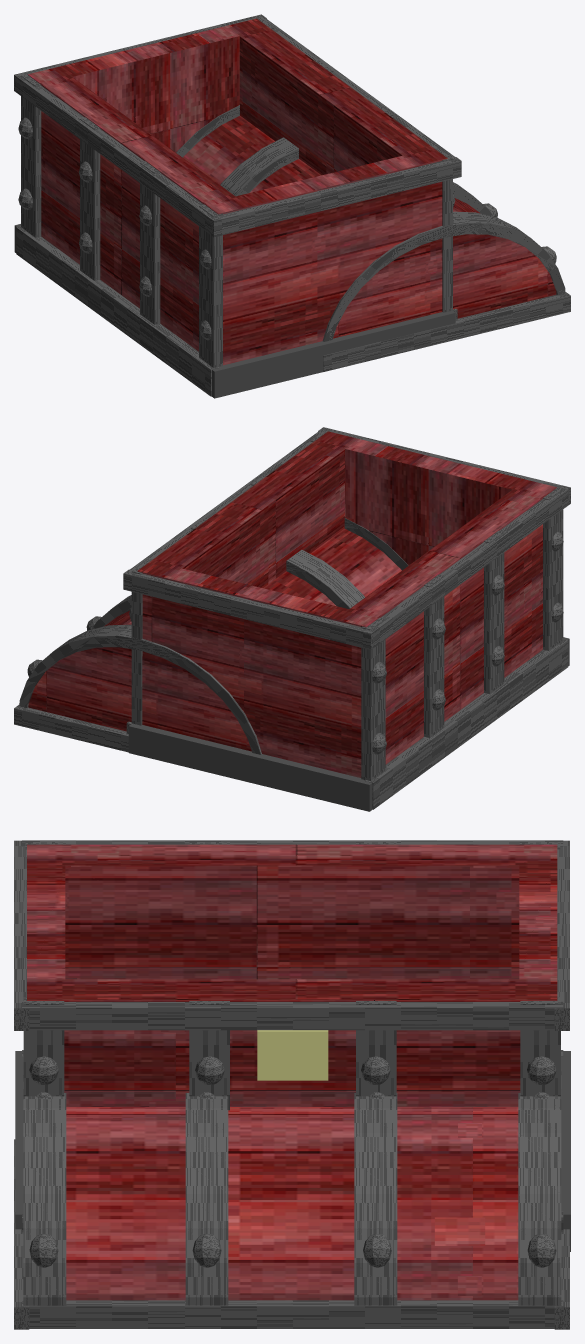
File: small-chest.glb
The picture shows the model from 3 angles, top to bottom: view 1: azimuth 30°, elevation 25°; view 2: azimuth 150°, elevation 25°; view 3: azimuth 270°, elevation 25°; orthographic projection. The views are drawn at different scales.
Visible parts, largest first — view 1: Cube.001, Cylinder; view 2: Cube.001, Cylinder; view 3: Cube.001, Cylinder.
Boxes of the visible parts, x1,y1,x2,y2 form: Cube.001: (14,14,461,398); Cylinder: (176,105,570,371); Cube.001: (123,427,570,811); Cylinder: (14,518,408,754); Cube.001: (14,840,570,1251); Cylinder: (14,1069,569,1329).
Size of the model in its own units: 1.27 by 0.6041 by 1.22.
Materials: 5 (2 with a texture image).
